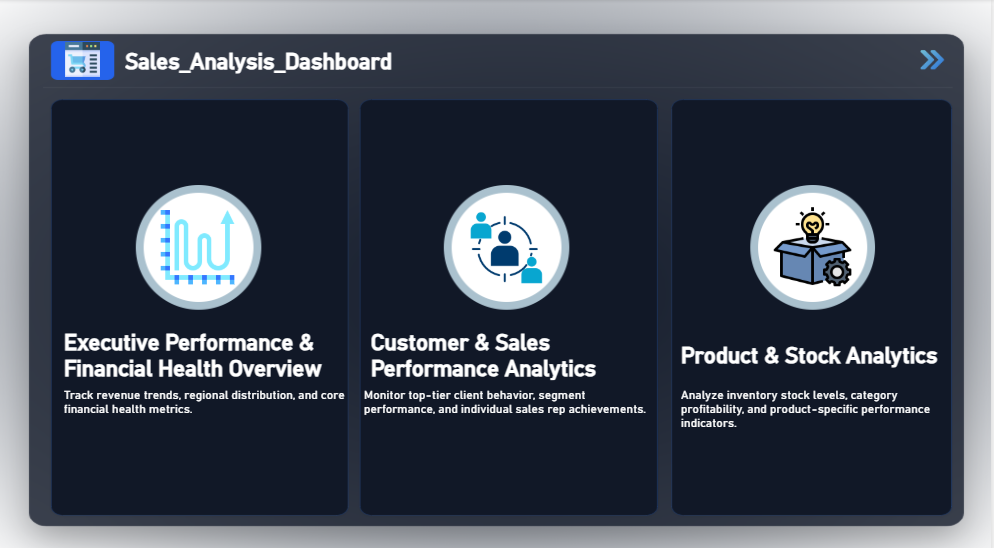

This screenshot's page, from the dashboard's own definition file:
{"tool":"powerbi","page":{"name":"Home Page","canvas":[1280,720],"ordinal":0},"visuals":[{"type":"image","box":[1176.4,62.4,55.3,32.6],"z":0},{"type":"image","box":[41.4,55.7,133.2,45.4],"z":1000},{"type":"shape","title":"Sales_Analysis_Dashboard","box":[162.9,62.9,385.7,58.6],"z":2000},{"type":"image","box":[64.3,240,385.7,161.4],"z":3000},{"type":"image","box":[461.4,240,385.7,161.4],"z":4000},{"type":"image","box":[868.6,240,362.9,161.4],"z":5000},{"type":"image","box":[190,272.9,132.9,95.7],"z":6000},{"type":"image","box":[591.4,267.1,125.7,107.1],"z":7000},{"type":"image","box":[982.9,267.1,132.9,107.1],"z":8000},{"type":"shape","title":"Executive Performance & Financial Health Overview","box":[84.3,425.7,365.7,84.3],"z":9000},{"type":"shape","title":"Customer & Sales Performance Analytics","box":[480,425.7,367.1,84.3],"z":10000},{"type":"shape","title":"Product & Stock Analytics","box":[880,442.9,337.1,84.3],"z":11000},{"type":"shape","title":"Track revenue trends, regional distribution, and core financial health metrics.","box":[84.3,500,365.7,54.3],"z":12000},{"type":"shape","title":"Monitor top-tier client behavior, segment performance, and individual sales rep achievements.","box":[471.4,500,365.7,54.3],"z":13000},{"type":"shape","title":"Analyze inventory stock levels, category profitability, and product-specific performance indicators.","box":[880,500,351.4,54.3],"z":14000}]}

Visuals, with their boxes in screenshot pixels (x1, y1, x2, y2), scaled from the page's 1280x720 canvas onto the 994x548 screenshot:
image: <region>914, 47, 956, 72</region>
image: <region>32, 42, 136, 77</region>
"Sales_Analysis_Dashboard" shape: <region>127, 48, 426, 92</region>
image: <region>50, 183, 349, 306</region>
image: <region>358, 183, 658, 306</region>
image: <region>675, 183, 956, 306</region>
image: <region>148, 208, 251, 281</region>
image: <region>459, 203, 557, 285</region>
image: <region>763, 203, 866, 285</region>
"Executive Performance & Financial Health Overview" shape: <region>65, 324, 349, 388</region>
"Customer & Sales Performance Analytics" shape: <region>373, 324, 658, 388</region>
"Product & Stock Analytics" shape: <region>683, 337, 945, 401</region>
"Track revenue trends, regional distribution, and core financial health metrics." shape: <region>65, 381, 349, 422</region>
"Monitor top-tier client behavior, segment performance, and individual sales rep achievements." shape: <region>366, 381, 650, 422</region>
"Analyze inventory stock levels, category profitability, and product-specific performance indicators." shape: <region>683, 381, 956, 422</region>
